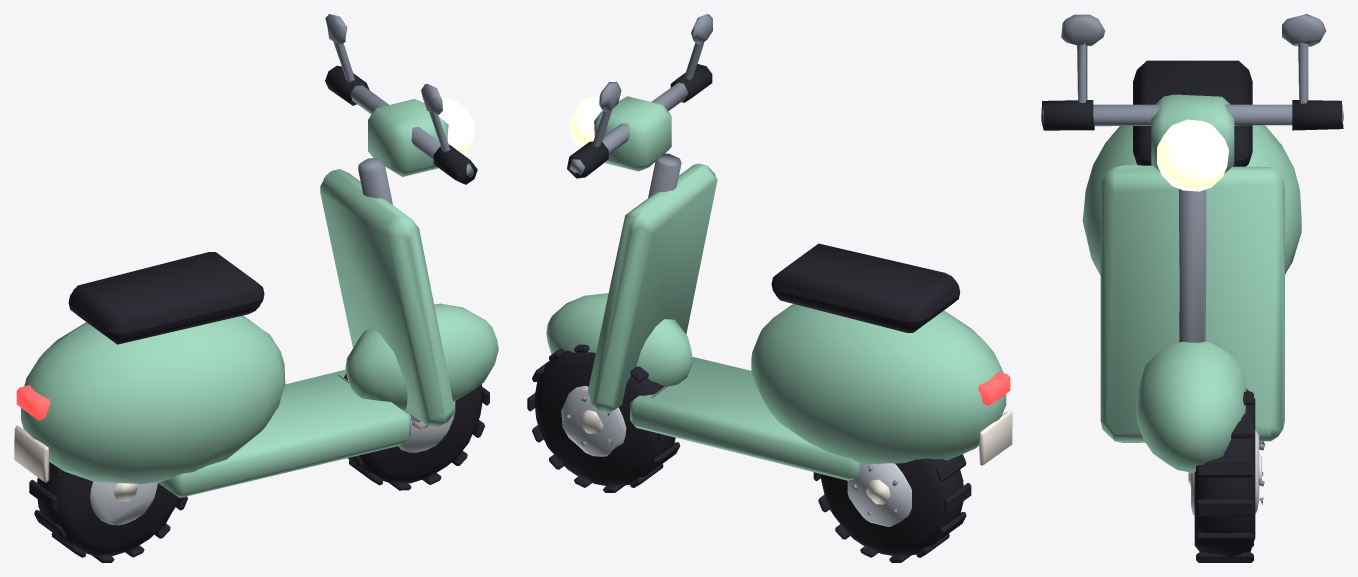
Rendered from scooter.glb.
3 renders of one model, left to right at view 1: azimuth 30°, elevation 25°; view 2: azimuth 150°, elevation 25°; view 3: azimuth 270°, elevation 25°, orthographic. The views are drawn at different scales.
Visible parts, largest first — view 1: scooter; view 2: scooter; view 3: scooter.
Boxes of the visible parts, bbox=[...] form: scooter: bbox=[14, 14, 498, 562]; scooter: bbox=[527, 14, 1012, 562]; scooter: bbox=[1041, 14, 1343, 562].
Size of the model in its own units: 1.36 by 1.24 by 0.6569.
1 material, 1 textured.
